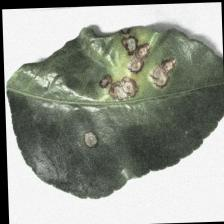canker: (62, 20, 183, 154)
